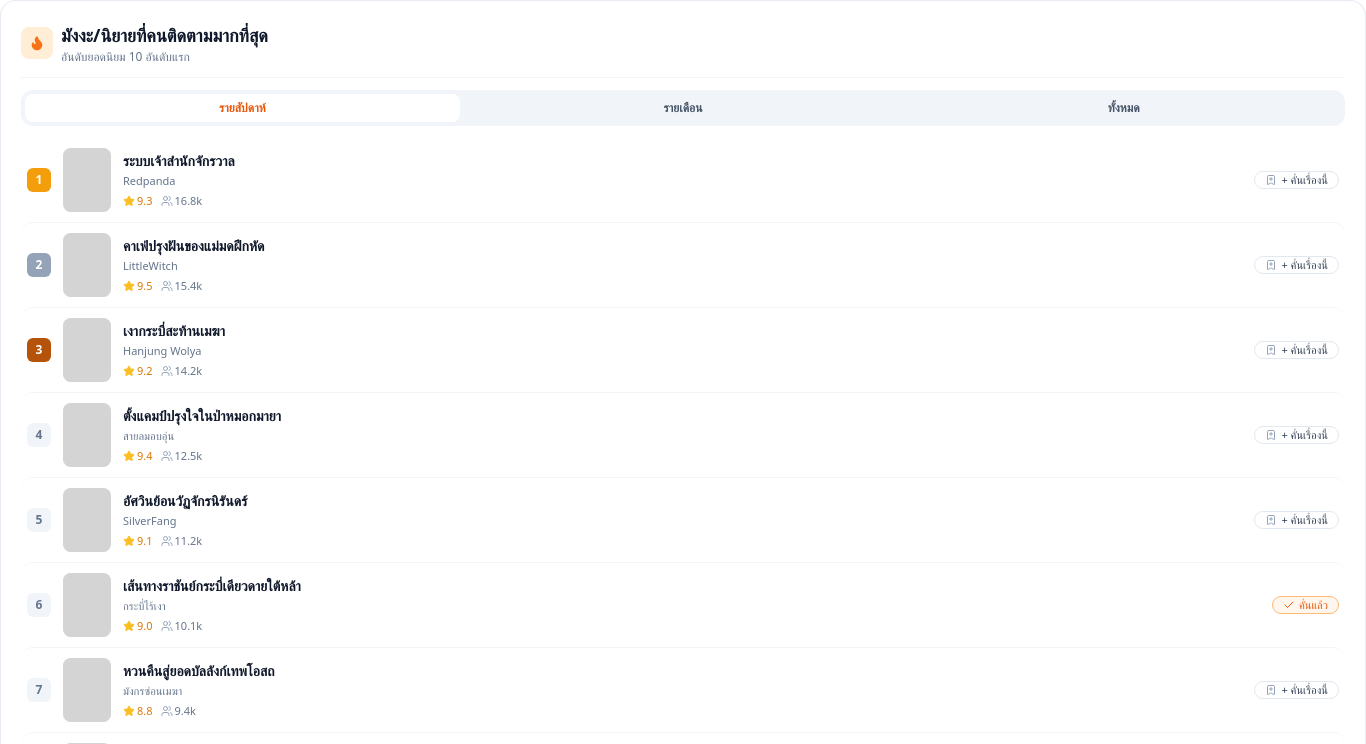
Sprint 3 & 4: Section 3 Badges, Leaderboard, and Feed › TopFollowedLeaderboard › renders leaderboard with rank boxes, switching tabs, and 1-click bookmarking
expect the heading "มังงะ/นิยายที่คนติดตามมากที่สุด" is shown: met, box left=61, top=21, right=268, bottom=49
expect the button "รายสัปดาห์" is shown: met, box left=25, top=94, right=460, bottom=122
Switch to Monthly tab
Click the button "รายเดือน": (683,108) left=466, top=94, right=900, bottom=122
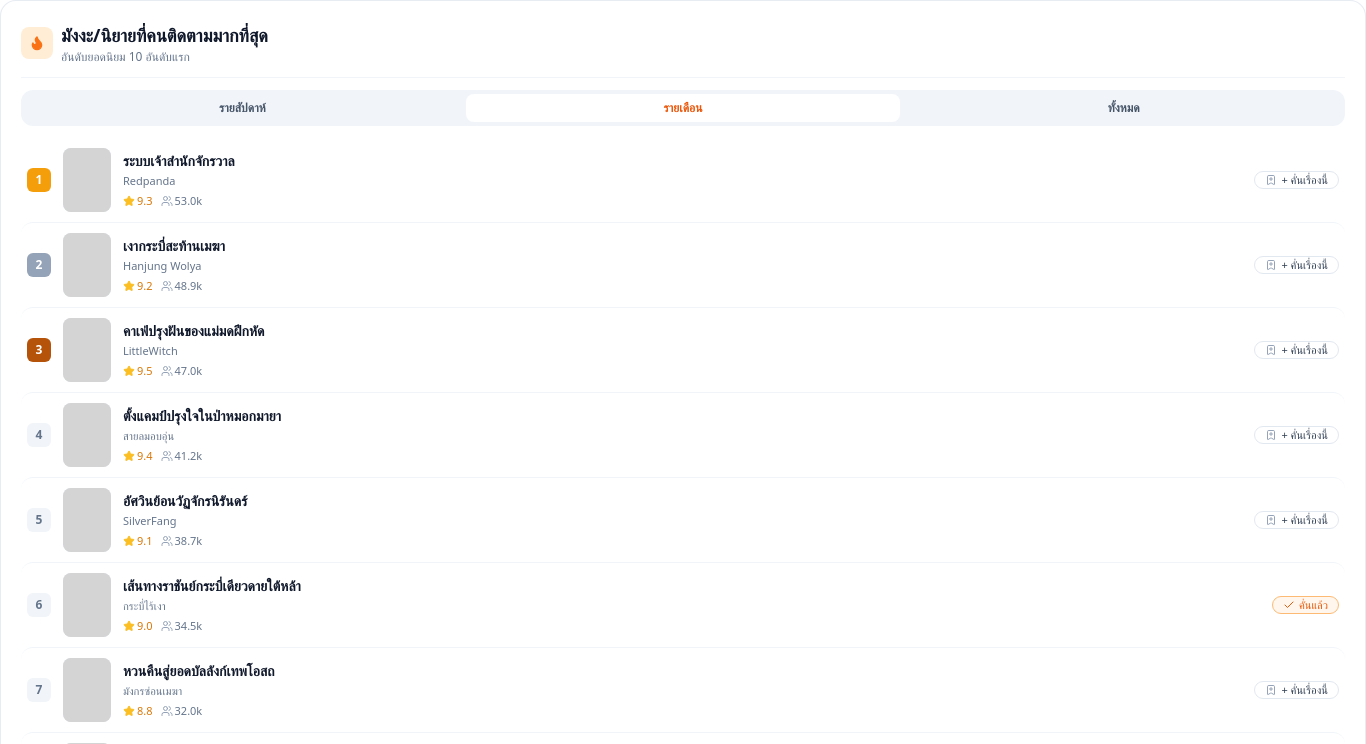
expect the text named "อันดับ 1" is shown: met, box left=27, top=168, right=51, bottom=192
expect the button "รายเดือน" has class "bg-white": met, box left=466, top=94, right=900, bottom=122
Click the 1st button "+ คั่นเรื่องนี้": (1297,180) left=1254, top=171, right=1339, bottom=189
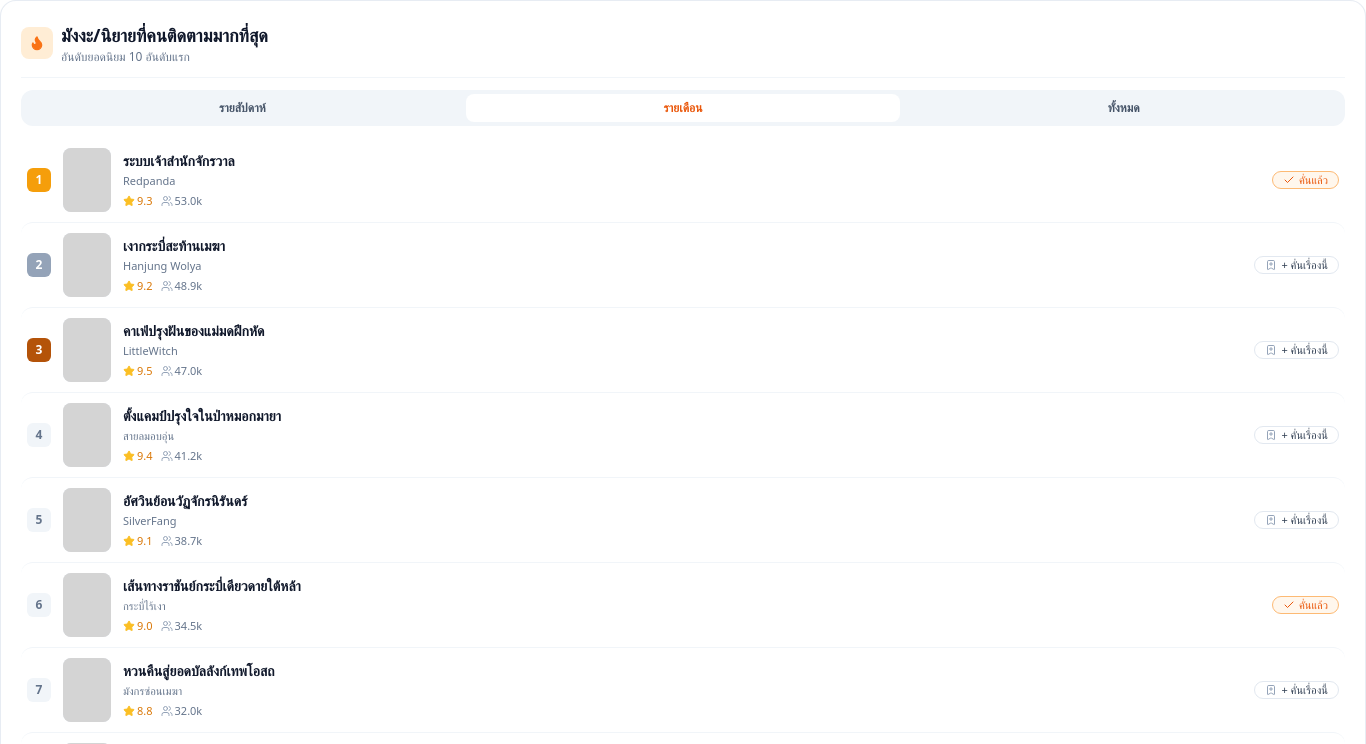
expect the 1st button "คั่นแล้ว" is shown: met, box left=1272, top=171, right=1339, bottom=189
